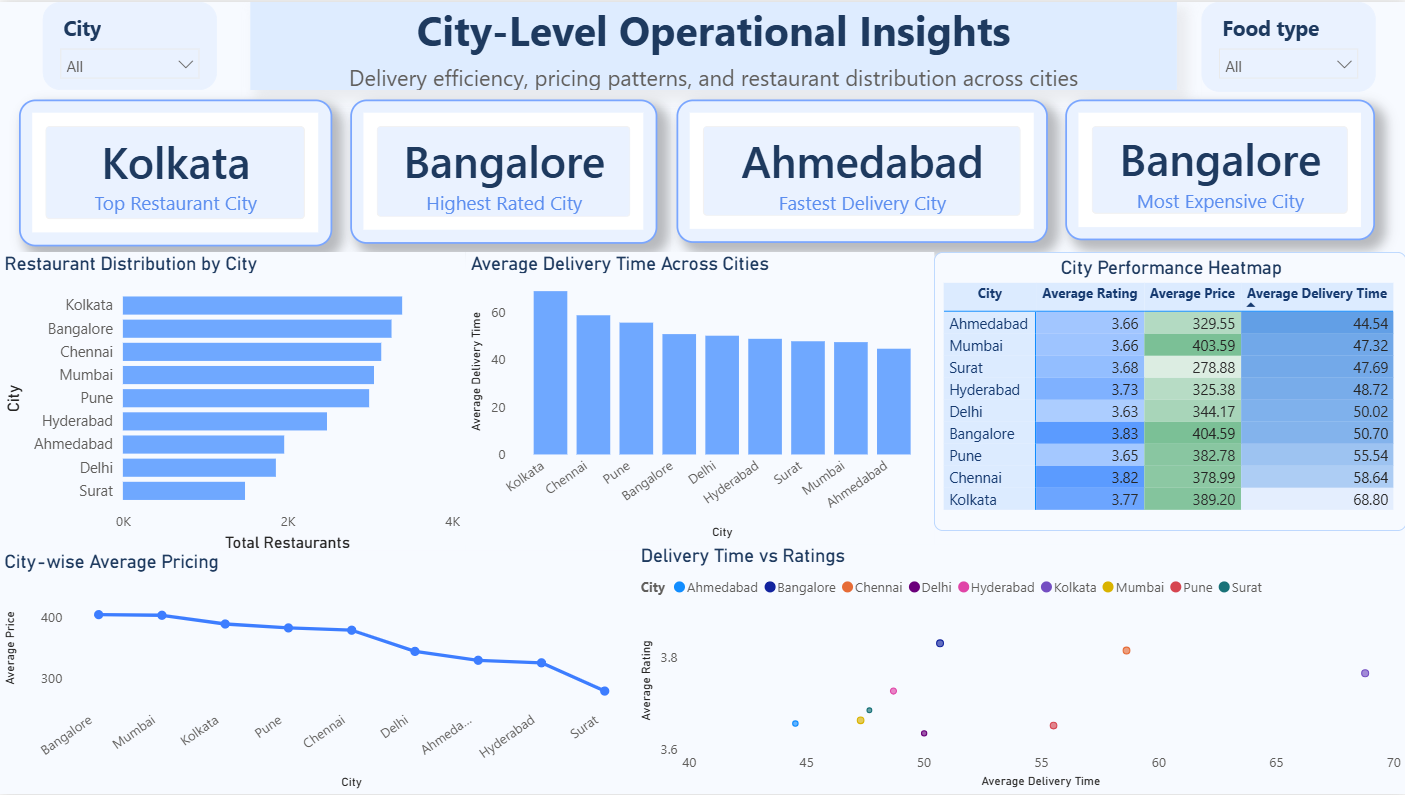

Layout of this report page (visuals, bound fields, positions):
{"tool":"powerbi","page":{"name":"City Analysis","canvas":[1280,720],"ordinal":2},"visuals":[{"type":"textbox","title":"City-Level Operational Insights","box":[228.2,0,842.7,80.1],"z":0},{"type":"slicer","fields":{"Values":["Swiggy_Data.City"]},"box":[40.1,0,158.1,80.1],"z":1000},{"type":"slicer","fields":{"Values":["Swiggy_Data.Food type"]},"box":[1093.1,0,158.1,81.3],"z":2000},{"type":"cardVisual","fields":{"Data":["Swiggy_Data.Top Restaurant City"]},"box":[17.8,89.1,285,133.6],"z":3000},{"type":"cardVisual","fields":{"Data":["Swiggy_Data.Highest Rated City"]},"box":[319.5,89.1,279.4,131.4],"z":4000},{"type":"cardVisual","fields":{"Data":["Swiggy_Data.Fastest Delivery City"]},"box":[615.6,89.1,337.3,130.2],"z":5000},{"type":"cardVisual","fields":{"Data":["Swiggy_Data.Most Expensive City"]},"box":[969.6,89.1,281.6,128],"z":6000},{"type":"clusteredBarChart","title":"Restaurant Distribution by City","fields":{"Category":["Swiggy_Data.City"],"Y":["Swiggy_Data.Total Restaurants"]},"box":[0,227.1,424.1,277.2],"z":7000},{"type":"clusteredColumnChart","title":"Average Delivery Time Across Cities","fields":{"Category":["Swiggy_Data.City"],"Y":["Swiggy_Data.Average Delivery Time"]},"box":[424.1,227.1,426.3,266],"z":8000},{"type":"lineChart","title":"City-wise Average Pricing","fields":{"Category":["Swiggy_Data.City"],"Y":["Swiggy_Data.Average Price"]},"box":[0,498.7,578.9,221.5],"z":9000},{"type":"scatterChart","title":"Delivery Time vs Ratings","fields":{"Y":["Swiggy_Data.Average Rating"],"X":["Swiggy_Data.Average Delivery Time"],"Size":["Swiggy_Data.Total Restaurants"],"Series":["Swiggy_Data.City"]},"box":[578.9,493.1,701.3,226],"z":10000},{"type":"pivotTable","title":"City Performance Heatmap","fields":{"Rows":["Swiggy_Data.City"],"Values":["Swiggy_Data.Average Rating","Swiggy_Data.Average Price","Swiggy_Data.Average Delivery Time"]},"box":[850.5,227.1,429.7,253.8],"z":11001}]}

Visuals, with their boxes in screenshot pixels (x1, y1, x2, y2), scaled from the page's 1280x720 canvas onto the 1405x795 screenshot:
"City-Level Operational Insights" textbox: [250,0,1175,88]
slicer - Swiggy_Data.City: [44,0,218,88]
slicer - Swiggy_Data.Food type: [1200,0,1373,90]
cardVisual - Swiggy_Data.Top Restaurant City: [20,98,332,246]
cardVisual - Swiggy_Data.Highest Rated City: [351,98,657,243]
cardVisual - Swiggy_Data.Fastest Delivery City: [676,98,1046,242]
cardVisual - Swiggy_Data.Most Expensive City: [1064,98,1373,240]
"Restaurant Distribution by City" clusteredBarChart: [0,251,466,557]
"Average Delivery Time Across Cities" clusteredColumnChart: [466,251,933,544]
"City-wise Average Pricing" lineChart: [0,551,635,794]
"Delivery Time vs Ratings" scatterChart: [635,544,1404,794]
"City Performance Heatmap" pivotTable: [934,251,1404,531]
